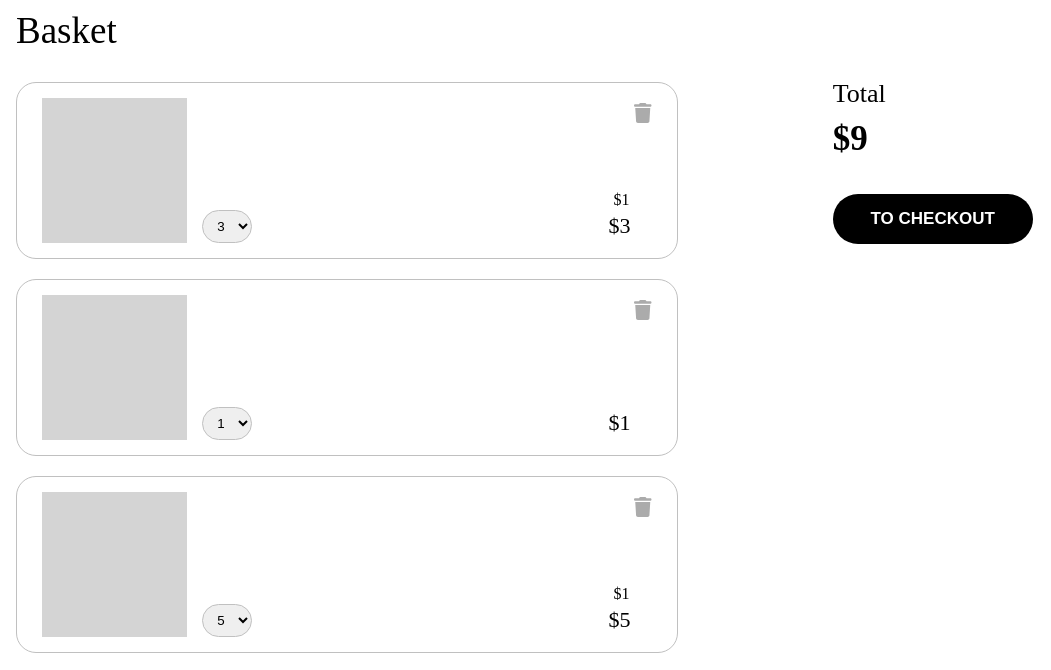
Test: Test Basket › renders noCheckoutInfo on checkout button click
Expected: the text "There is no checkout :)" is not shown
Click the button "TO CHECKOUT". click: click(933, 219)
box: [833,194,1033,244]
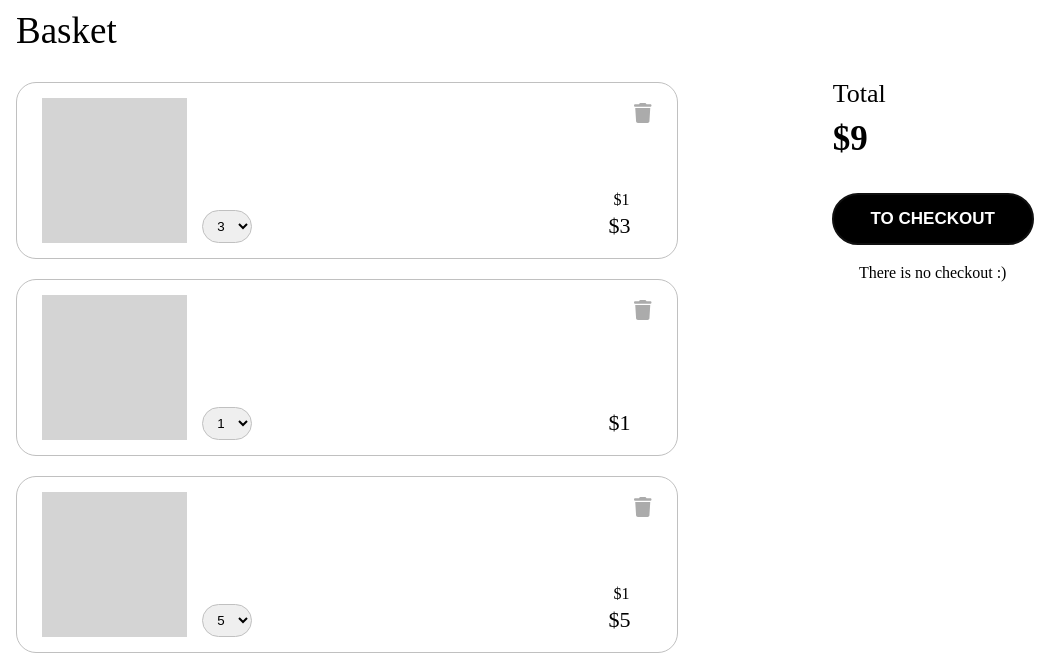
Now the text "There is no checkout :)" is shown, box [859,264,1006,282]
